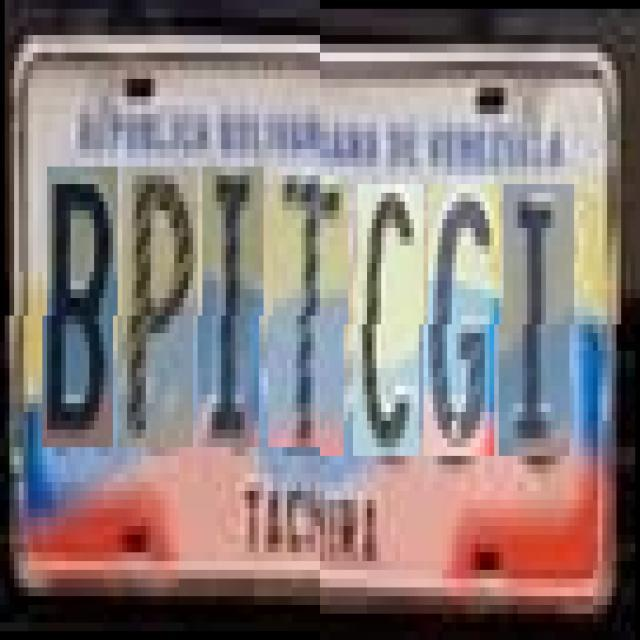B: (47, 175, 118, 456)
C: (358, 184, 423, 456)
G: (428, 184, 499, 456)
I: (504, 184, 574, 456), (202, 175, 264, 456)
P: (122, 175, 198, 456)
T: (272, 175, 348, 456)
